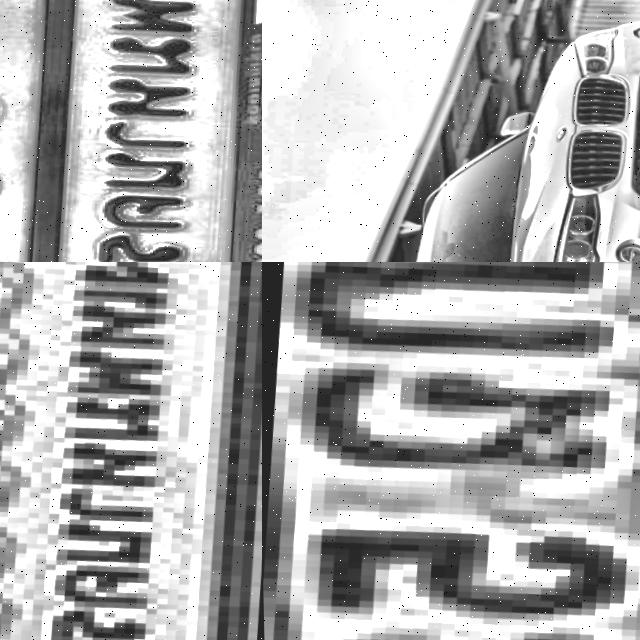license-plate: (262, 262, 640, 640), (0, 262, 262, 640), (0, 0, 262, 262), (626, 97, 640, 168)
